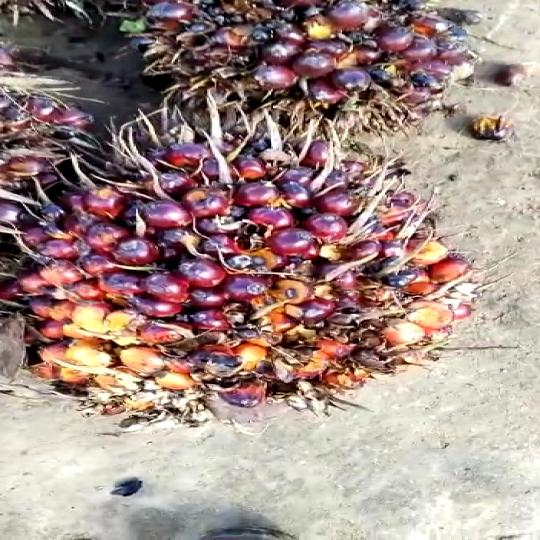masak: (23, 109, 476, 429)
